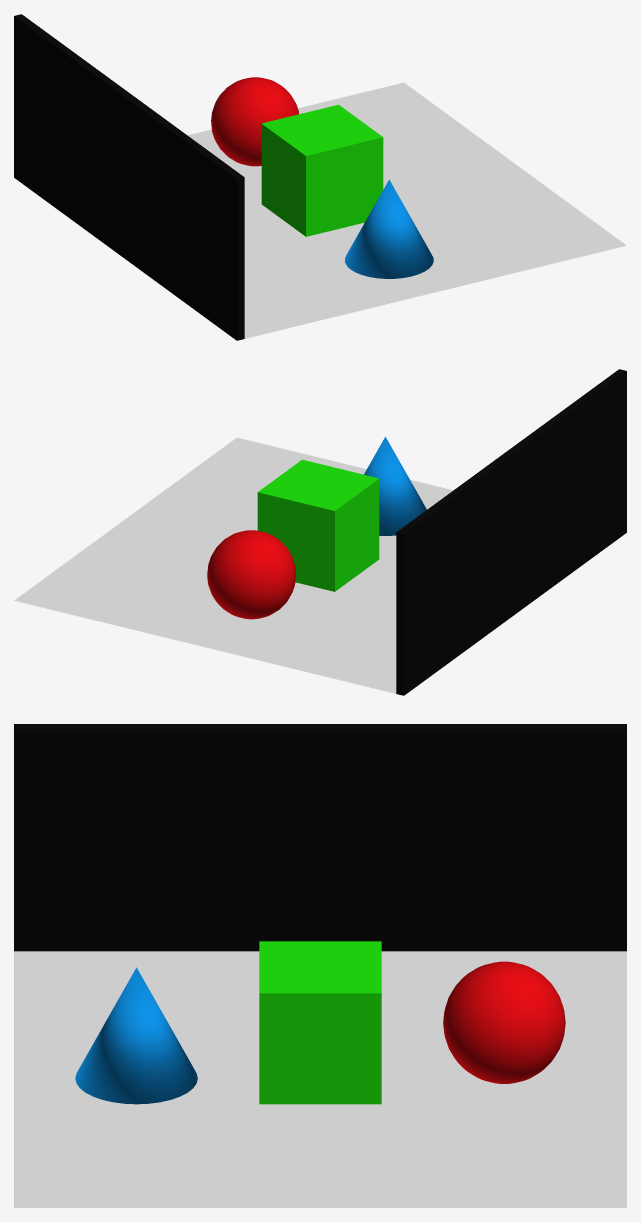
3 renders of one model, top to bottom at view 1: azimuth 30°, elevation 25°; view 2: azimuth 150°, elevation 25°; view 3: azimuth 270°, elevation 25°, orthographic. The views are drawn at different scales.
Parts seen in each view (by area): view 1: Plane, Cube.001_Cube.002, Cube_Cube.001, Cone, Sphere; view 2: Plane, Cube.001_Cube.002, Cube_Cube.001, Sphere, Cone; view 3: Cube.001_Cube.002, Plane, Cube_Cube.001, Sphere, Cone.
Boxes of the visible parts, x1,y1,x2,y2 form: Plane: (188,82,626,338); Cube.001_Cube.002: (14,14,244,340); Cube_Cube.001: (261,104,383,236); Cone: (345,179,433,278); Sphere: (211,77,298,166); Plane: (14,437,452,693); Cube.001_Cube.002: (396,369,626,695); Cube_Cube.001: (257,459,379,591); Sphere: (207,530,295,619); Cone: (364,437,426,535); Cube.001_Cube.002: (14,724,626,951); Plane: (14,951,626,1207); Cube_Cube.001: (259,941,381,1104); Sphere: (443,961,565,1083); Cone: (75,967,197,1104).
Size of the model in its own units: 20.2 by 8 by 20.
